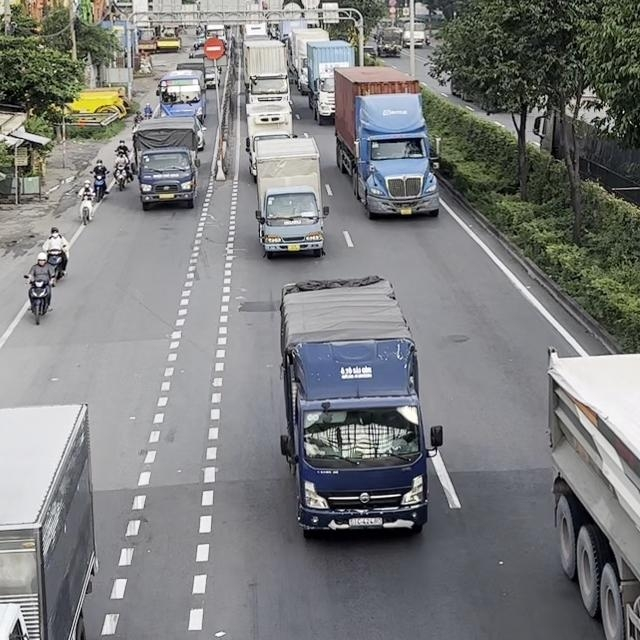bus: (154, 68, 206, 120)
motorcycle: (23, 273, 54, 325), (45, 248, 66, 281), (77, 192, 94, 225), (91, 173, 107, 202), (113, 164, 128, 191)
truck: (278, 274, 443, 538), (545, 346, 639, 639), (0, 402, 98, 639), (333, 65, 441, 219), (252, 131, 329, 259), (131, 116, 201, 210), (304, 39, 355, 124), (245, 99, 293, 181), (242, 38, 292, 109)
